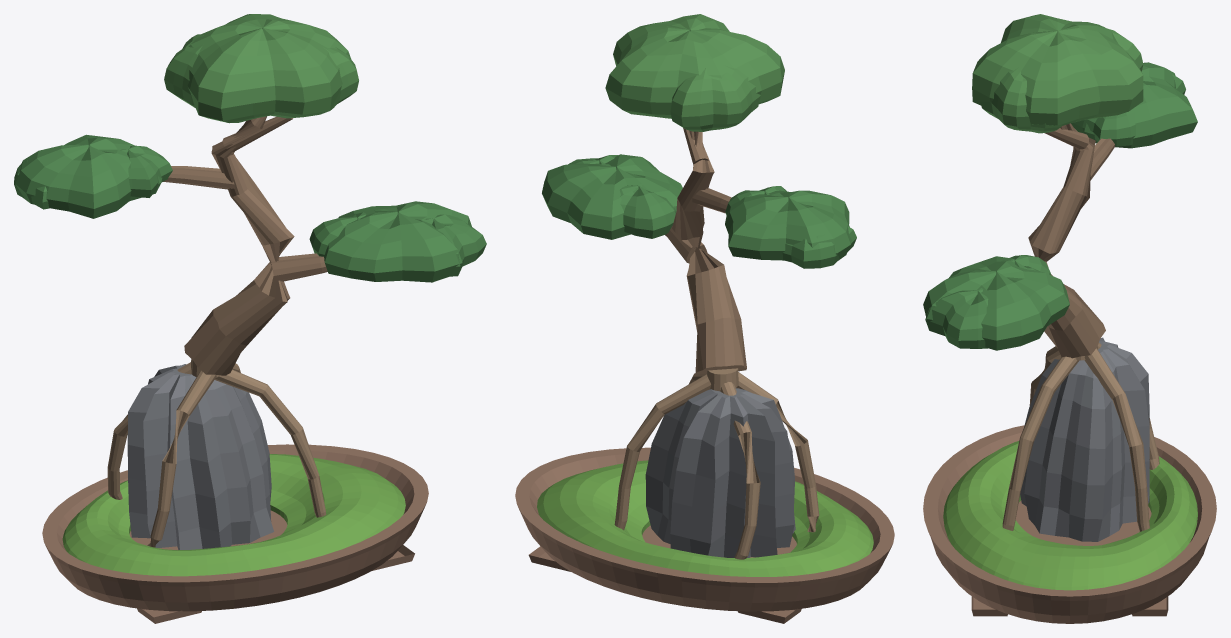
3 renders of one model, left to right at view 1: azimuth 30°, elevation 25°; view 2: azimuth 150°, elevation 25°; view 3: azimuth 270°, elevation 25°, orthographic. The views are drawn at different scales.
Parts seen in each view (by area): view 1: Rock, CeramicTray, SoilAndMoss, ApexFoliagePad, TwistedTrunk, LowerFoliagePad, MiddleFoliagePad, ExposedRoots; view 2: Rock, CeramicTray, ApexFoliagePad, SoilAndMoss, LowerFoliagePad, TwistedTrunk, MiddleFoliagePad, ExposedRoots; view 3: Rock, SoilAndMoss, CeramicTray, ApexFoliagePad, LowerFoliagePad, TwistedTrunk, ExposedRoots, MiddleFoliagePad.
Part boxes in pixels (left/top/right/bottom): Rock: left=127, top=364, right=274, bottom=549; CeramicTray: left=42, top=444, right=428, bottom=623; SoilAndMoss: left=62, top=454, right=405, bottom=576; ApexFoliagePad: left=164, top=14, right=358, bottom=123; TwistedTrunk: left=163, top=116, right=327, bottom=375; LowerFoliagePad: left=309, top=201, right=486, bottom=282; MiddleFoliagePad: left=14, top=134, right=172, bottom=218; ExposedRoots: left=107, top=359, right=326, bottom=547; Rock: left=645, top=388, right=795, bottom=557; CeramicTray: left=515, top=447, right=894, bottom=623; ApexFoliagePad: left=605, top=14, right=784, bottom=131; SoilAndMoss: left=537, top=460, right=873, bottom=576; LowerFoliagePad: left=542, top=154, right=682, bottom=239; TwistedTrunk: left=665, top=128, right=746, bottom=374; MiddleFoliagePad: left=725, top=186, right=856, bottom=268; ExposedRoots: left=614, top=368, right=819, bottom=559; Rock: left=1020, top=337, right=1149, bottom=541; SoilAndMoss: left=943, top=441, right=1197, bottom=590; CeramicTray: left=923, top=425, right=1216, bottom=623; ApexFoliagePad: left=972, top=14, right=1143, bottom=133; LowerFoliagePad: left=923, top=255, right=1069, bottom=350; TwistedTrunk: left=1028, top=123, right=1114, bottom=358; ExposedRoots: left=1002, top=343, right=1159, bottom=531; MiddleFoliagePad: left=1071, top=62, right=1197, bottom=148.
Size of the model in its own units: 0.36 by 0.48 by 0.24.
